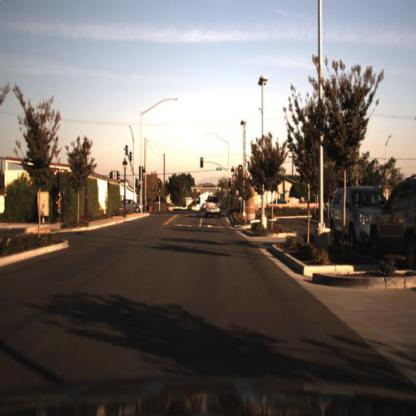car: (327, 186, 400, 255), (119, 196, 147, 219), (206, 195, 223, 220)
trafficLight-Red: (157, 178, 164, 193), (198, 156, 205, 169), (238, 165, 243, 182), (227, 175, 234, 186), (200, 156, 204, 173), (157, 177, 163, 187)
